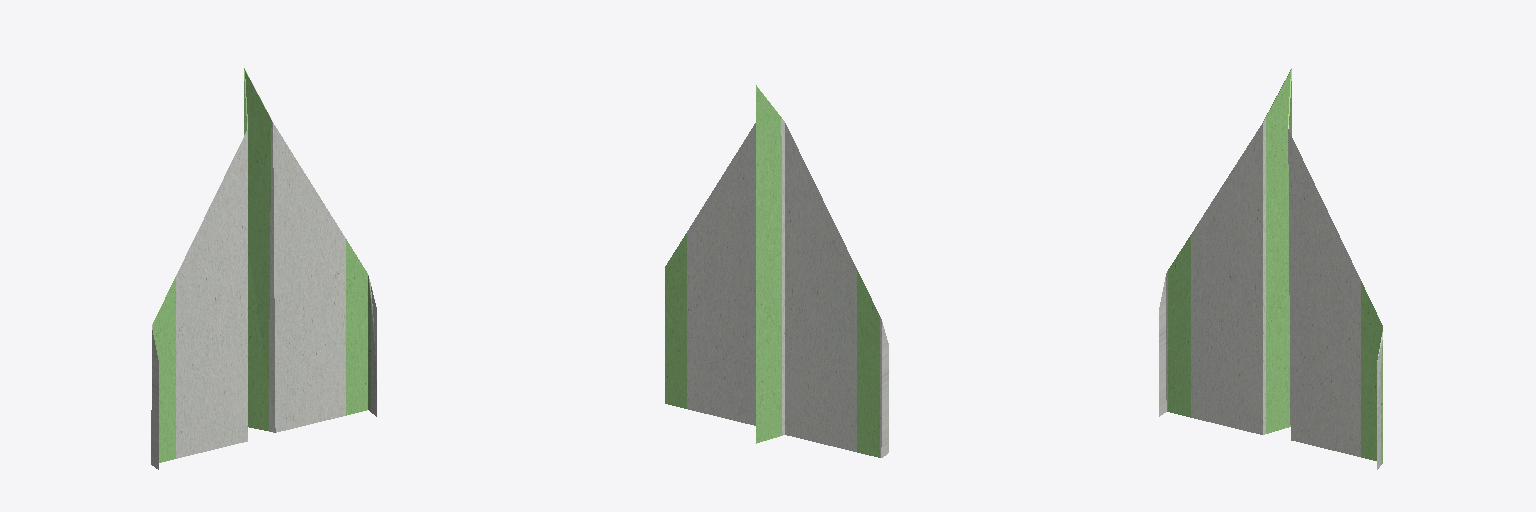
The picture shows the model from 3 angles: view 1: azimuth 30°, elevation 25°; view 2: azimuth 150°, elevation 25°; view 3: azimuth 330°, elevation 25°; orthographic projection.
Parts seen in each view (by area): view 1: Layer0_001; view 2: Layer0_001; view 3: Layer0_001.
Part boxes in pixels (x1,y1,x2,y2): Layer0_001: (151,68,376,469); Layer0_001: (665,85,888,457); Layer0_001: (1159,68,1382,469).
Bounding box in the file's own units: 12.64 × 19.84 × 2.39.
Materials: 1 (1 with a texture image).